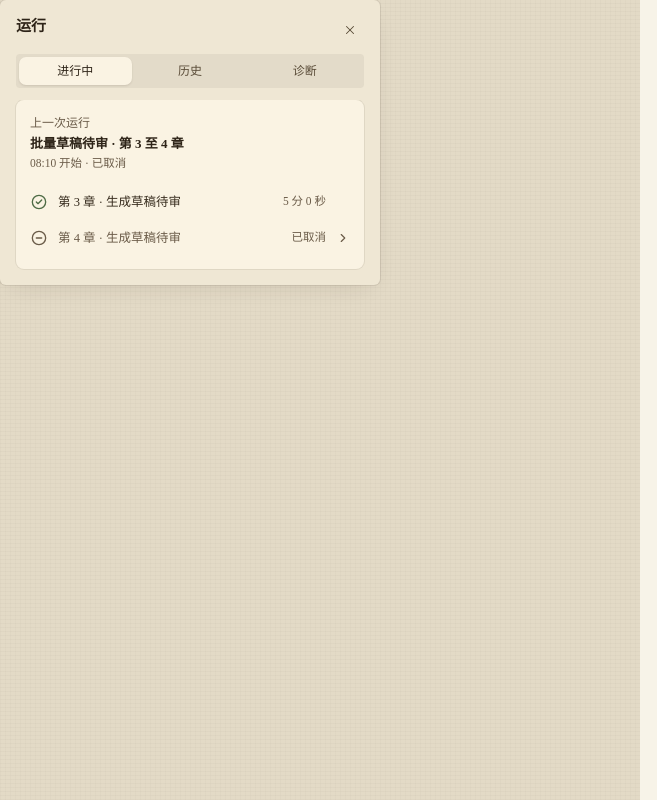
运行侧页 › 取消时正在写的那一章：步骤行标已取消，展开历史也不出现红叉和失败（zh-CN）
Expected: the list item with class "run-step" shows "已取消", left=24, top=221, right=356, bottom=255
Click the tab "历史" at [190, 71], box left=134, top=57, right=246, bottom=85
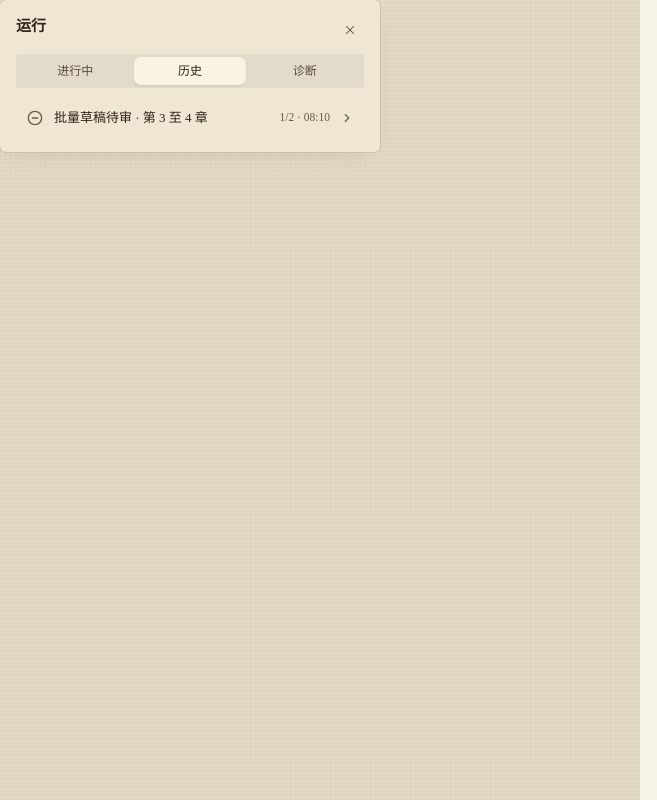
Result: the button "批量草稿待审 · 第 3 至 4 章 1/2 · 08:10" is shown
Click the button "批量草稿待审 · 第 3 至 4 章 1/2 · 08:10" at [190, 118], box left=16, top=100, right=364, bottom=136
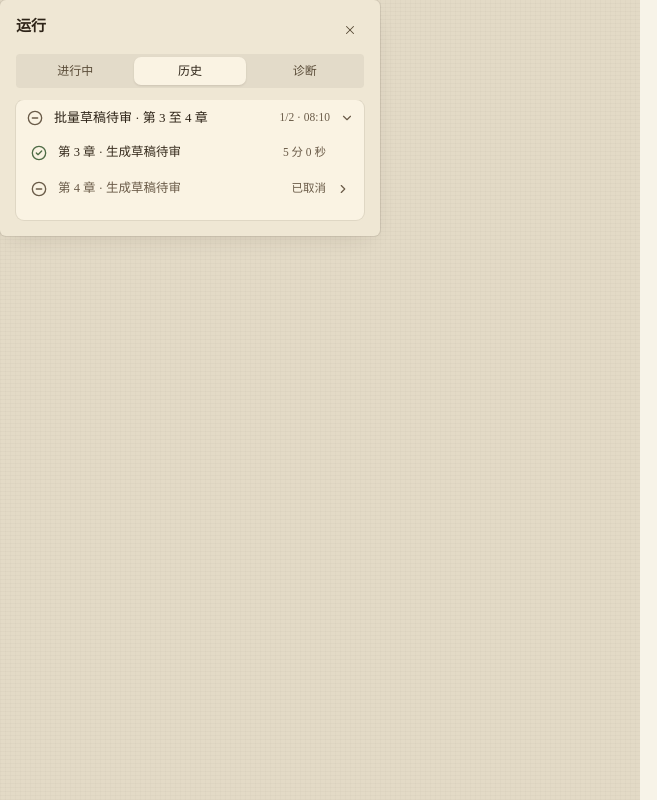
Result: the list item with class "run-step" shows "已取消" at left=24, top=172, right=356, bottom=206
